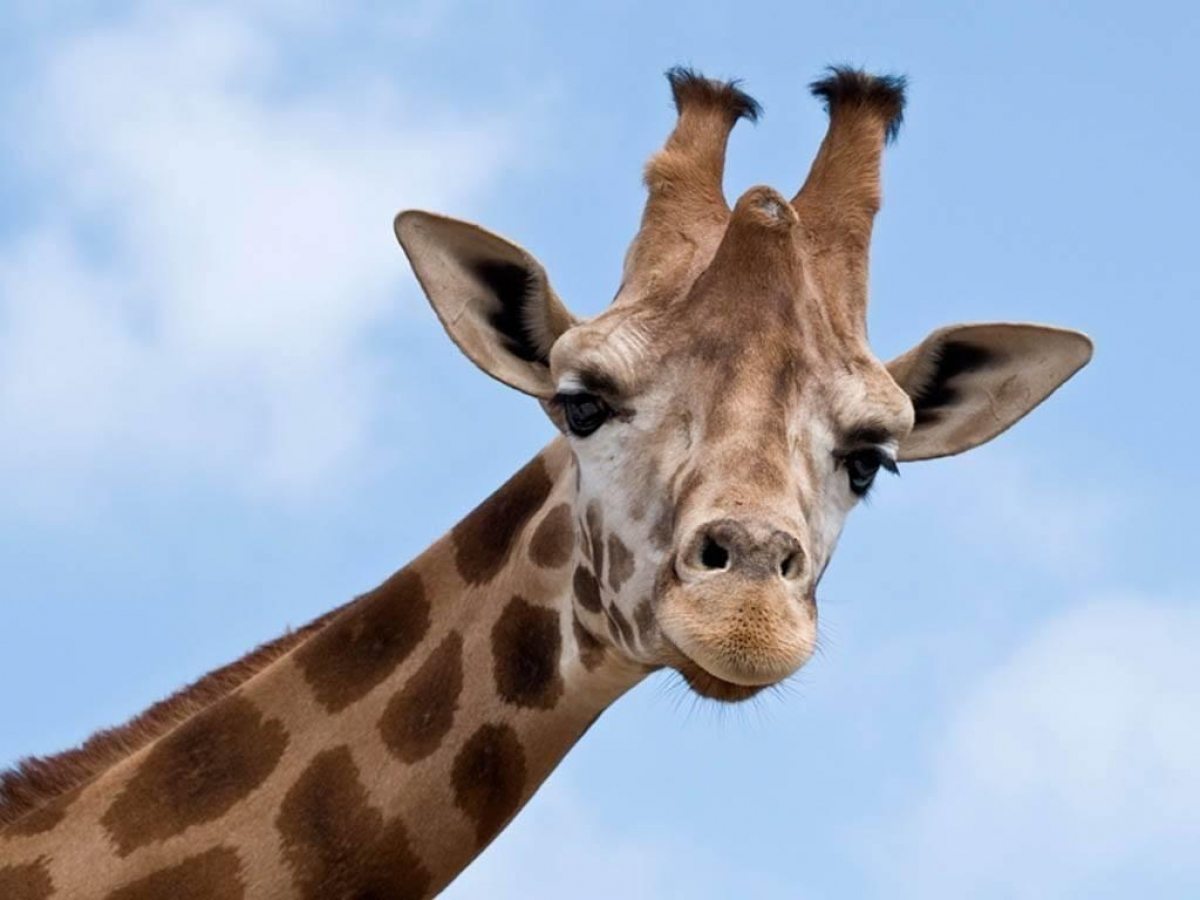Jirafa: (419, 50, 1113, 797)
